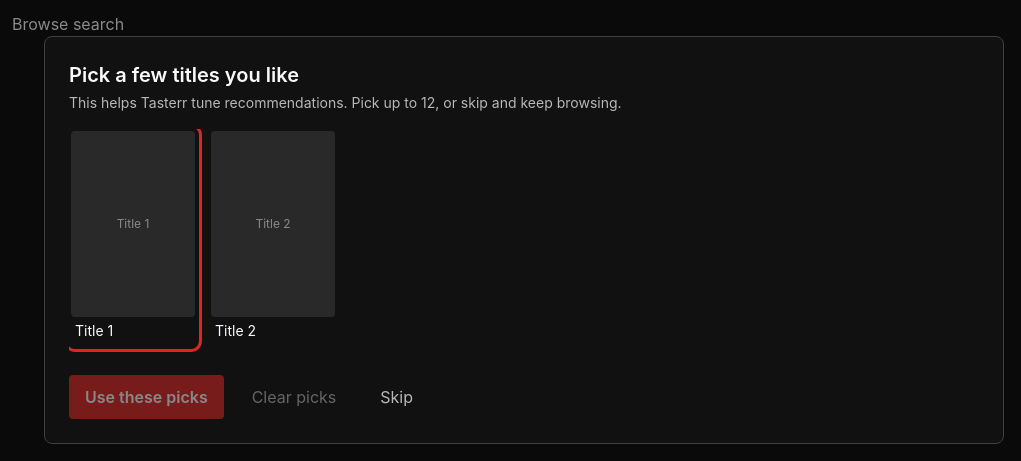
selection posts typed title keys and disappears after success
The image size is (1021, 461).
Click the button with aria-label "Choose Title 1". click: (133, 238)
box: [69,129,197,347]
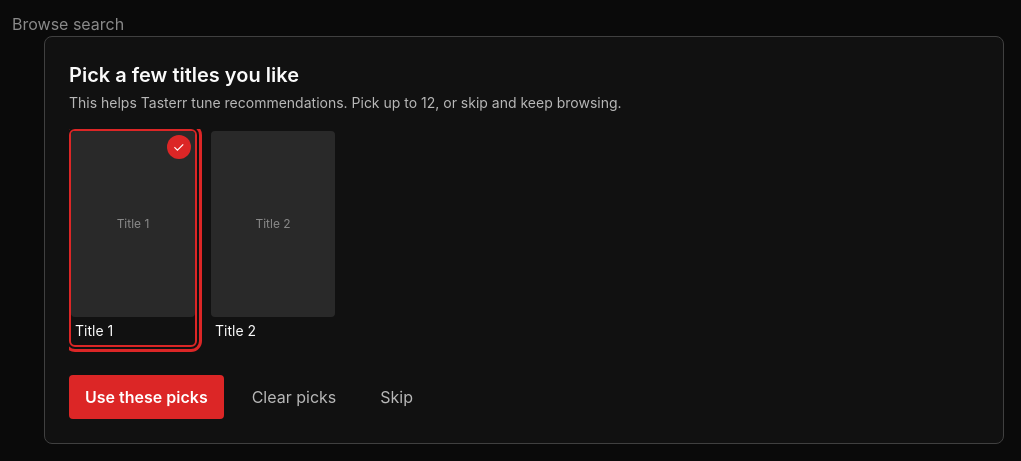
Result: the button with aria-label "Remove Title 1" is pressed at [69,129,197,347]
Click the button "Use these picks". click: (146, 397)
box: [69,375,224,419]
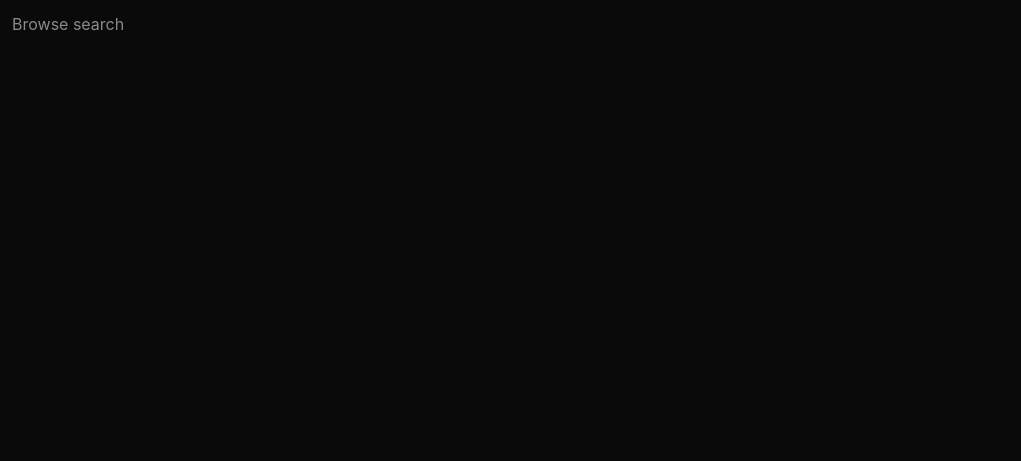
Result: the heading "Pick a few titles you like" is gone
